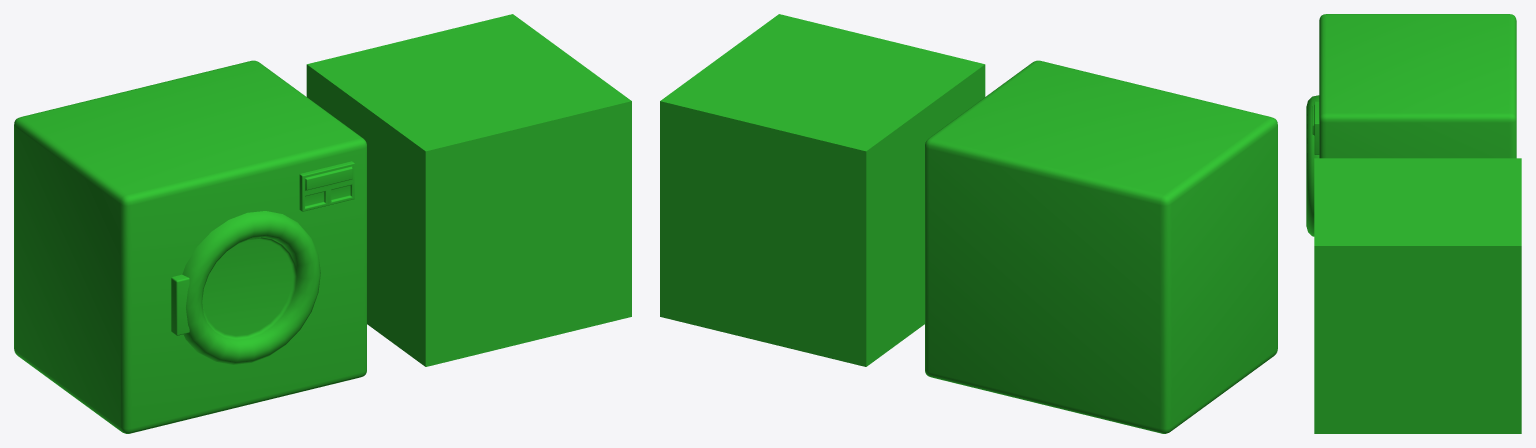
Rendered from Prueba.glb.
3 views of the same model, side by side, from view 1: azimuth 30°, elevation 25°; view 2: azimuth 150°, elevation 25°; view 3: azimuth 270°, elevation 25° (orthographic). The views are drawn at different scales.
Parts seen in each view (by area): view 1: Prueba; view 2: Prueba; view 3: Prueba.
Boxes of the visible parts, x1,y1,x2,y2 form: Prueba: [14, 14, 631, 433]; Prueba: [660, 14, 1277, 433]; Prueba: [1306, 14, 1521, 433].
Size of the model in its own units: 4.89 by 2.21 by 2.08.
